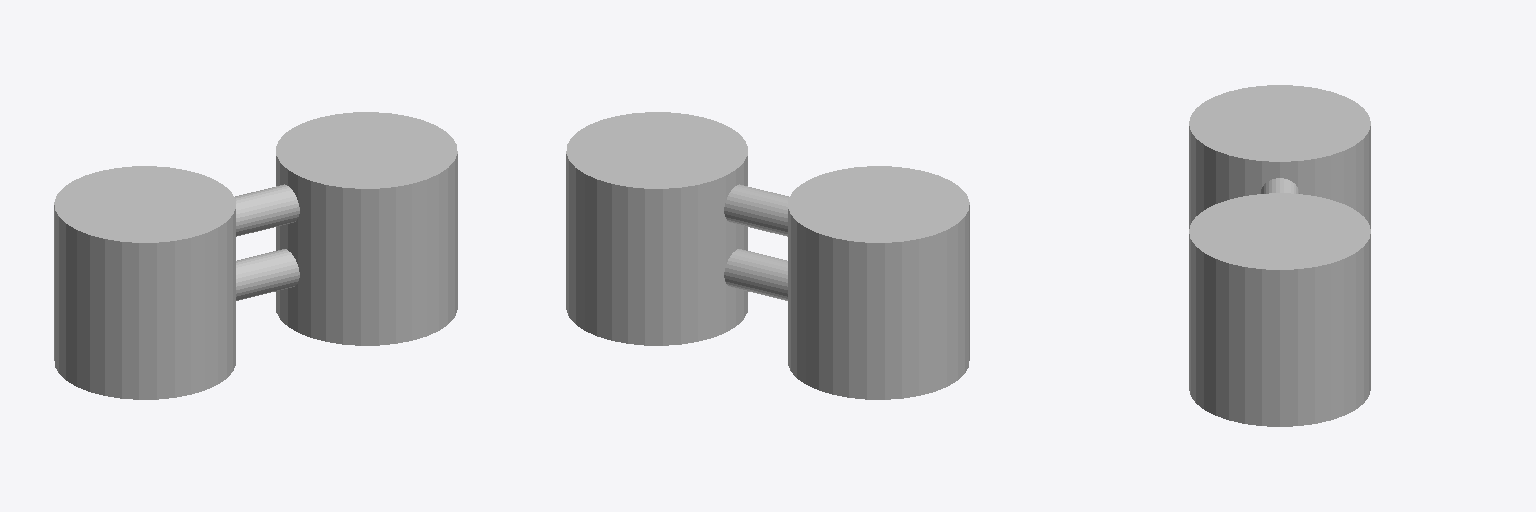
File: tank.obj
The picture shows the model from 3 angles: view 1: azimuth 30°, elevation 25°; view 2: azimuth 150°, elevation 25°; view 3: azimuth 270°, elevation 25°; orthographic projection.
Parts seen in each view (by area): view 1: Cylinder; view 2: Cylinder; view 3: Cylinder.
Boxes of the visible parts, <box> form: Cylinder: <box>54,112,457,399</box>; Cylinder: <box>566,112,969,399</box>; Cylinder: <box>1189,85,1370,426</box>.
Bounding box in the file's own units: 1.15 × 0.4555 × 0.4794.